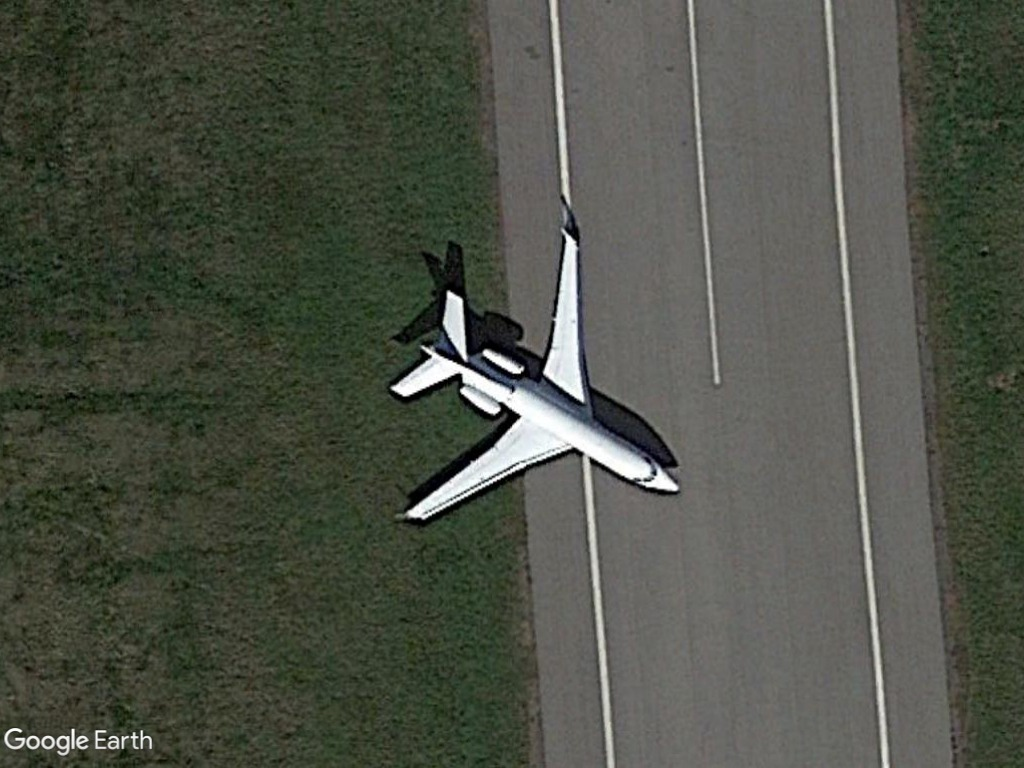chartered: (381, 214, 689, 529)
